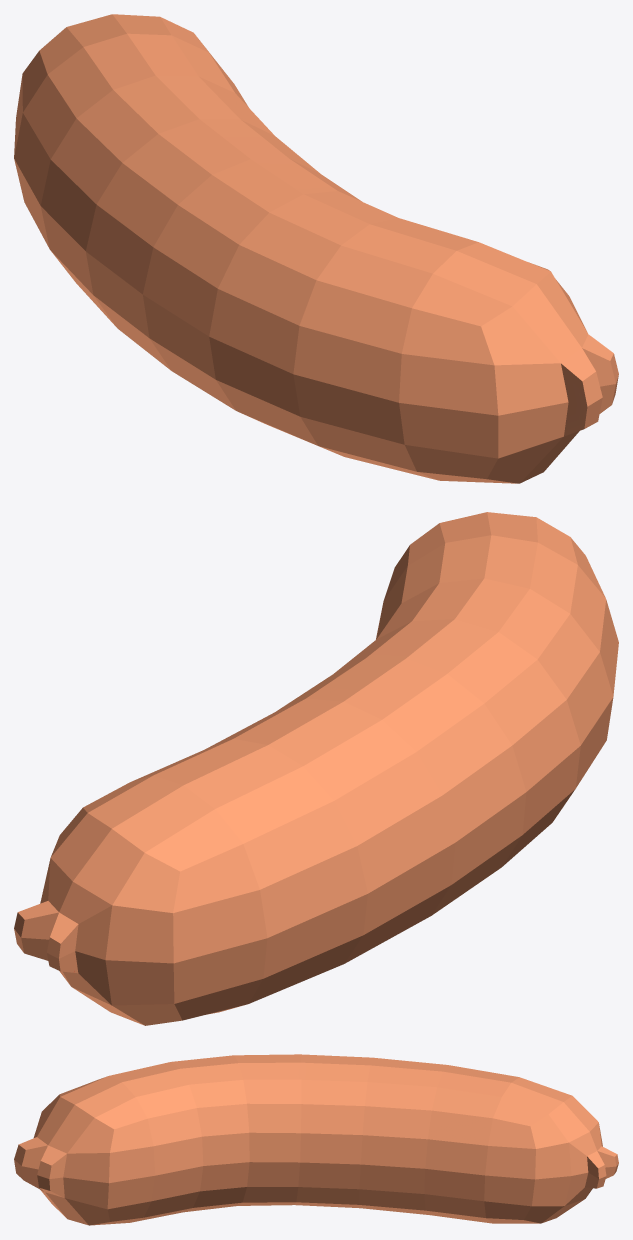
Rendered from Sausage Fix.fbx.
3 renders of one model, top to bottom at view 1: azimuth 30°, elevation 25°; view 2: azimuth 150°, elevation 25°; view 3: azimuth 270°, elevation 25°, orthographic. The views are drawn at different scales.
Visible parts, largest first — view 1: Plane.001; view 2: Plane.001; view 3: Plane.001.
Part boxes in pixels (left/top/right/bottom): Plane.001: left=14, top=14, right=618, bottom=483; Plane.001: left=14, top=512, right=618, bottom=1025; Plane.001: left=14, top=1054, right=618, bottom=1225.
Bounding box in the file's own units: 53.07 × 40.34 × 157.
1 material, 1 textured.
